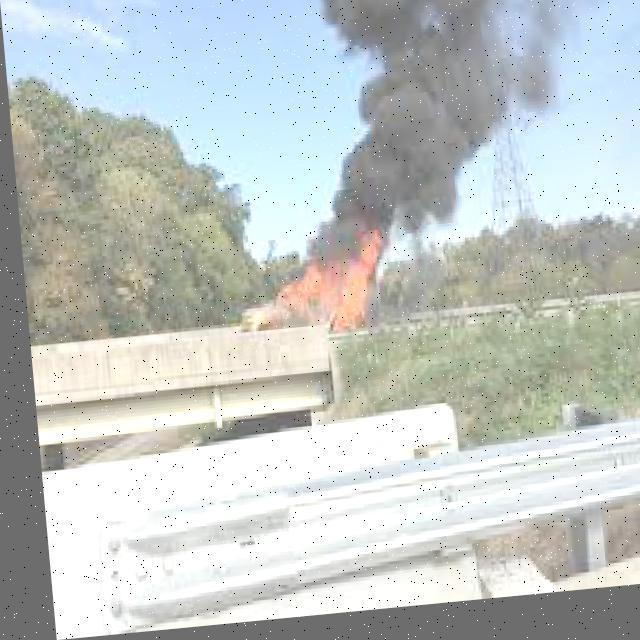Fire: (245, 230, 394, 346)
